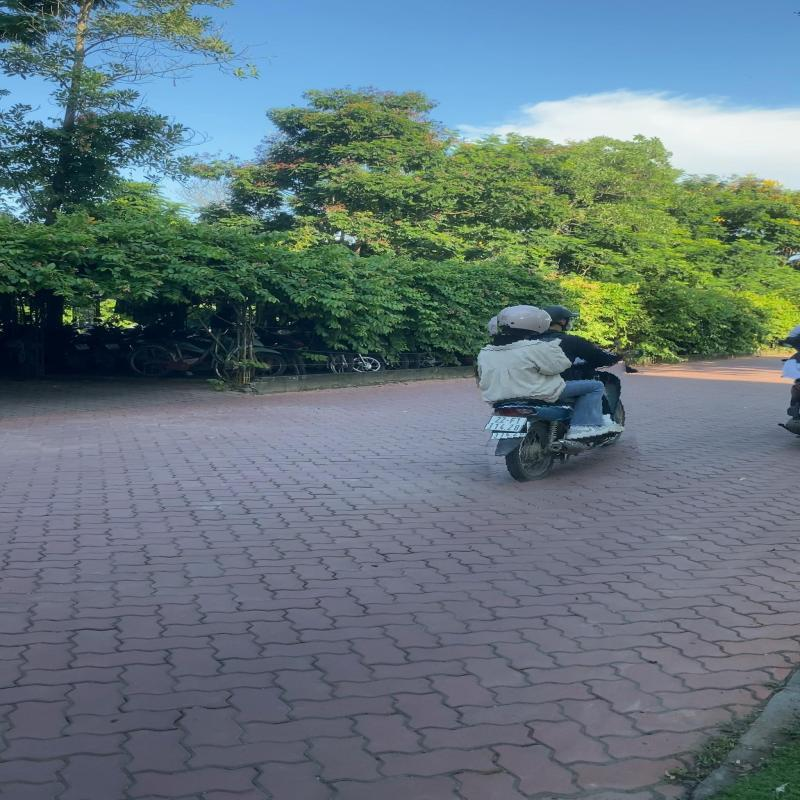helmet: (497, 306, 552, 336), (542, 304, 580, 331)
licenseplate: (484, 415, 527, 433)
motorcyclist: (473, 300, 635, 482)
